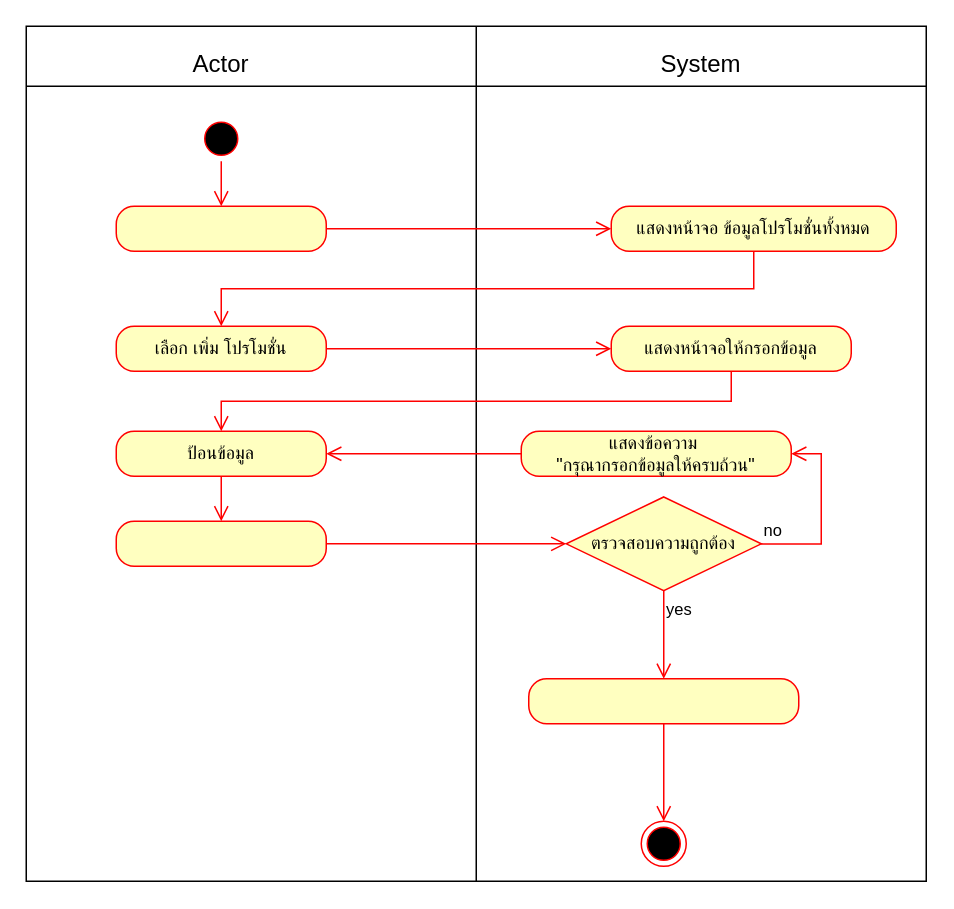
Some shapes in this 954 by 909 pixel diagram are drawn without their labels. Here are the shapes that lost their labels. From the top down, the box of each, then its label:
(115, 205, 326, 251): เลือกเมนู โปรโมชั่น
(115, 520, 326, 566): กดปุ่ม บันทึก
(527, 677, 799, 724): แสดงข้อความ "บันทึกข้อมูลสำเร็จ"
